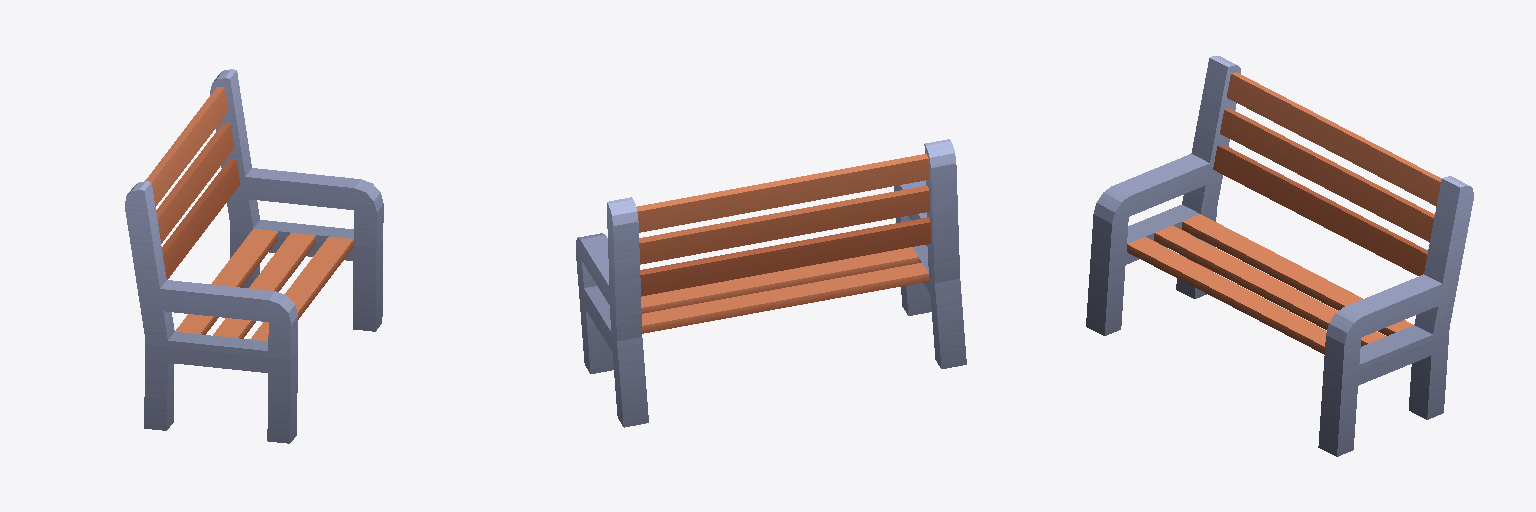
3 renders of one model, left to right at view 1: azimuth 30°, elevation 25°; view 2: azimuth 150°, elevation 25°; view 3: azimuth 270°, elevation 25°, orthographic.
Parts seen in each view (by area): view 1: Bench_3; view 2: Bench_3; view 3: Bench_3.
Part boxes in pixels (left/top/right/bottom): Bench_3: left=125, top=69, right=383, bottom=443; Bench_3: left=576, top=139, right=966, bottom=427; Bench_3: left=1086, top=56, right=1473, bottom=456.
Size of the model in its own units: 0.7979 by 0.6047 by 0.8383.
1 materials, 1 textured.